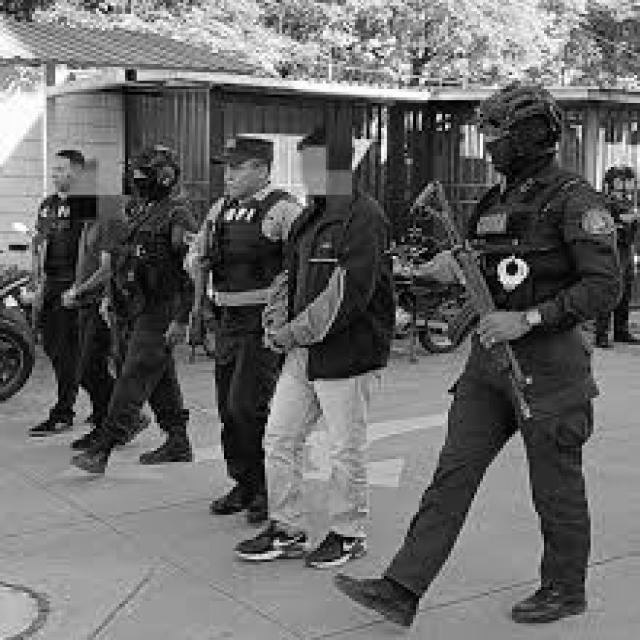rifle: (405, 191, 538, 420), (186, 222, 206, 366)
